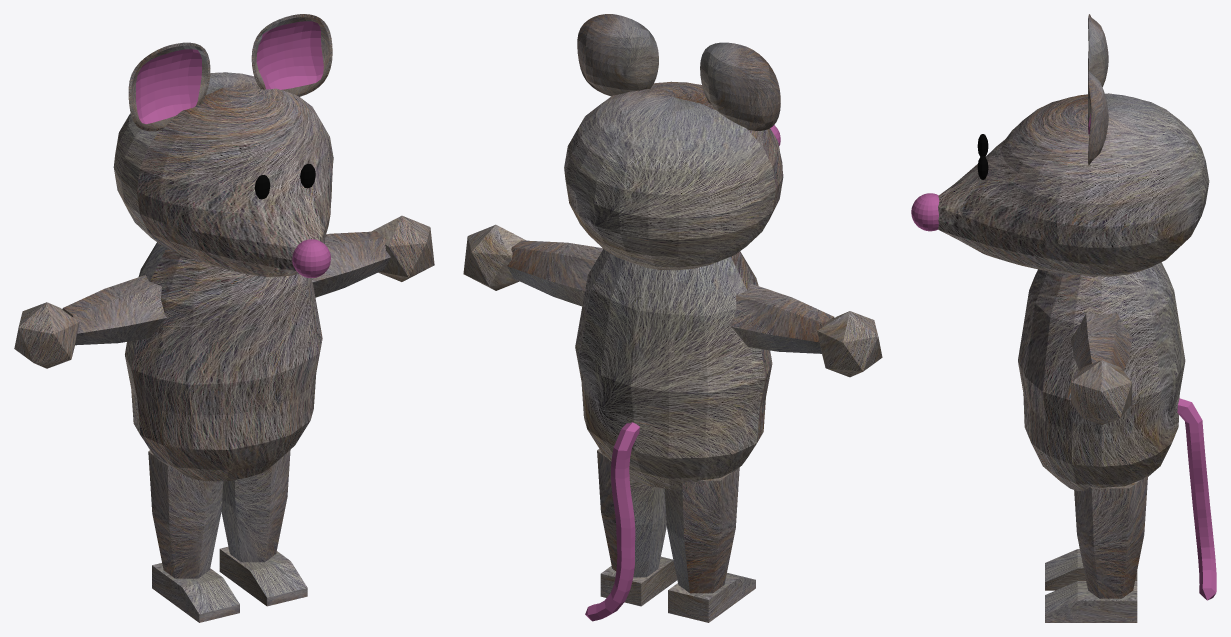
File: rat.glb
The picture shows the model from 3 angles, left to right: view 1: azimuth 30°, elevation 25°; view 2: azimuth 150°, elevation 25°; view 3: azimuth 270°, elevation 25°; orthographic projection. The views are drawn at different scales.
Parts seen in each view (by area): view 1: Body, Head.001, Leg, Ear, Arm, Foot, Hand, Nose, Eye; view 2: Body, Head.001, Leg, Ear, Arm, Hand, Foot, Tail; view 3: Head.001, Body, Leg, Foot, Tail, Hand, Arm, Ear, Nose, Eye.
Part boxes in pixels (left/top/right/bottom): Body: left=125, top=242, right=322, bottom=481; Head.001: left=113, top=72, right=333, bottom=276; Leg: left=148, top=450, right=290, bottom=578; Ear: left=128, top=14, right=332, bottom=131; Arm: left=62, top=231, right=390, bottom=345; Foot: left=152, top=547, right=307, bottom=622; Hand: left=14, top=215, right=434, bottom=368; Nose: left=292, top=239, right=330, bottom=277; Eye: left=254, top=163, right=315, bottom=199; Body: left=575, top=249, right=772, bottom=489; Head.001: left=564, top=81, right=783, bottom=270; Leg: left=597, top=449, right=739, bottom=593; Ear: left=577, top=14, right=780, bottom=130; Arm: left=507, top=240, right=834, bottom=353; Hand: left=463, top=224, right=882, bottom=377; Foot: left=600, top=556, right=755, bottom=622; Tail: left=585, top=422, right=639, bottom=621; Head.001: left=938, top=93, right=1209, bottom=276; Body: left=1018, top=262, right=1185, bottom=491; Leg: left=1074, top=476, right=1147, bottom=598; Foot: left=1045, top=549, right=1137, bottom=622; Tail: left=1177, top=398, right=1216, bottom=600; Hand: left=1071, top=360, right=1131, bottom=424; Arm: left=1071, top=313, right=1132, bottom=370; Ear: left=1088, top=14, right=1108, bottom=165; Nose: left=911, top=193, right=939, bottom=231; Eye: left=977, top=134, right=988, bottom=179.
Bounding box in the file's own units: 2.51 × 3.28 × 1.66.
3 materials, 1 textured.
